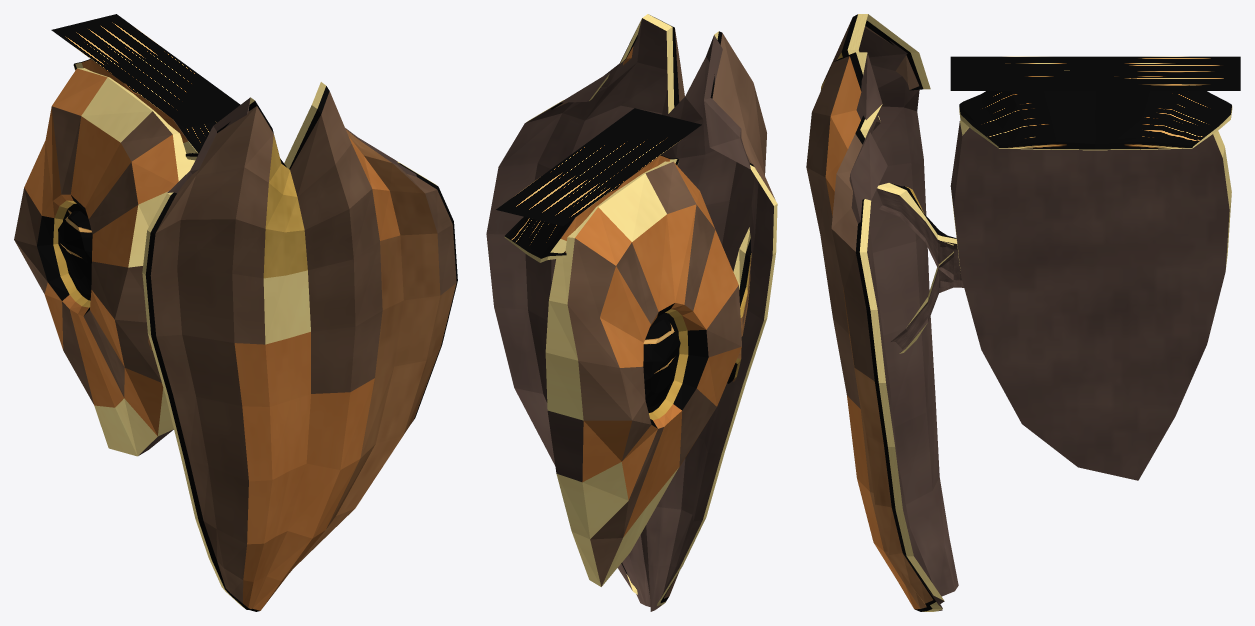
Rendered from jindan_jinwu_gauntlet_3d.obj.
3 views of the same model, side by side, from view 1: azimuth 30°, elevation 25°; view 2: azimuth 150°, elevation 25°; view 3: azimuth 270°, elevation 25° (orthographic). The views are drawn at different scales.
Visible parts, largest first — view 1: part_16, part_18, part_19, part_3, part_2, part_50, part_0, part_20, part_21, part_22, part_42, part_4 (+4 smaller); view 2: part_17, part_3, part_2, part_0, part_50, part_16, part_20, part_1, part_42, part_4, part_5, part_45 (+6 smaller); view 3: part_1, part_17, part_16, part_50, part_45, part_20, part_18, part_19, part_46, part_48, part_22, part_30 (+3 smaller).
Part boxes in pixels (bbox=[...]): part_16: bbox=[150, 91, 456, 603]; part_18: bbox=[234, 137, 400, 610]; part_19: bbox=[294, 129, 456, 567]; part_3: bbox=[24, 68, 178, 436]; part_2: bbox=[14, 106, 172, 404]; part_50: bbox=[51, 14, 240, 128]; part_0: bbox=[77, 68, 195, 456]; part_20: bbox=[142, 82, 436, 608]; part_21: bbox=[263, 134, 307, 278]; part_22: bbox=[145, 86, 457, 611]; part_42: bbox=[64, 210, 92, 292]; part_4: bbox=[37, 195, 89, 315]; part_17: bbox=[486, 18, 773, 611]; part_3: bbox=[575, 162, 741, 536]; part_2: bbox=[567, 161, 741, 586]; part_0: bbox=[545, 161, 678, 586]; part_50: bbox=[496, 108, 701, 226]; part_16: bbox=[554, 29, 775, 598]; part_20: bbox=[526, 14, 777, 605]; part_1: bbox=[547, 410, 583, 481]; part_42: bbox=[643, 319, 680, 398]; part_4: bbox=[650, 303, 708, 428]; part_5: bbox=[649, 309, 688, 419]; part_45: bbox=[509, 158, 676, 253]; part_1: bbox=[950, 121, 1229, 480]; part_17: bbox=[849, 27, 958, 610]; part_16: bbox=[806, 18, 919, 408]; part_50: bbox=[950, 56, 1240, 90]; part_45: bbox=[963, 93, 1227, 149]; part_20: bbox=[847, 14, 944, 611]; part_18: bbox=[825, 56, 919, 609]; part_19: bbox=[842, 285, 932, 608]; part_46: bbox=[982, 91, 1208, 117]; part_48: bbox=[1003, 118, 1188, 143]; part_22: bbox=[834, 14, 935, 611]; part_30: bbox=[876, 188, 953, 280].
Size of the model in its own units: 0.7306 by 1.28 by 0.8651.
